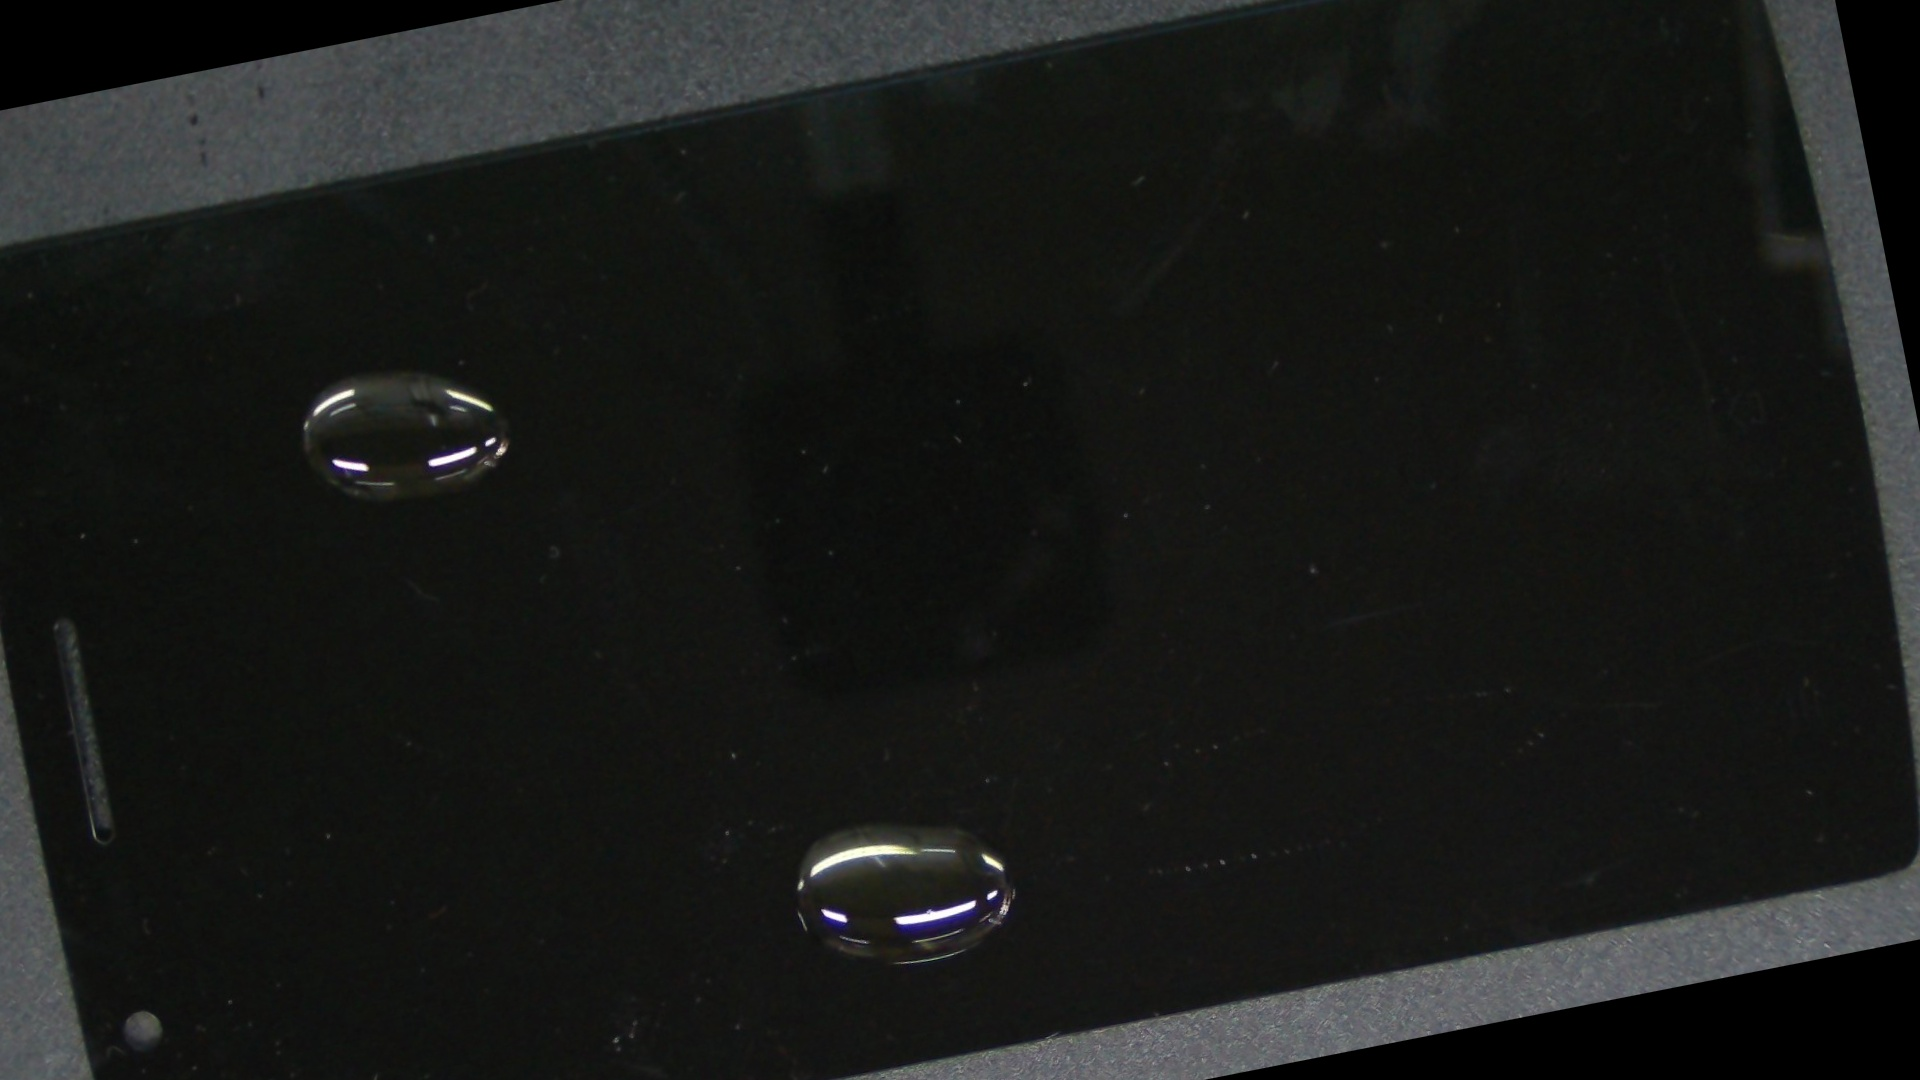oil: (328, 316, 1337, 1080), (80, 169, 616, 585)
